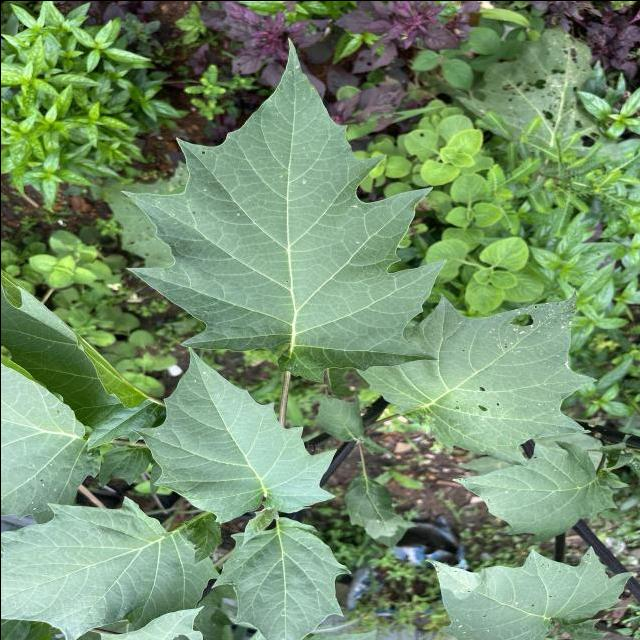Datura metal linn: (114, 33, 450, 385), (354, 284, 598, 470), (127, 344, 338, 528), (421, 543, 634, 640), (448, 438, 618, 546), (208, 515, 352, 640)
